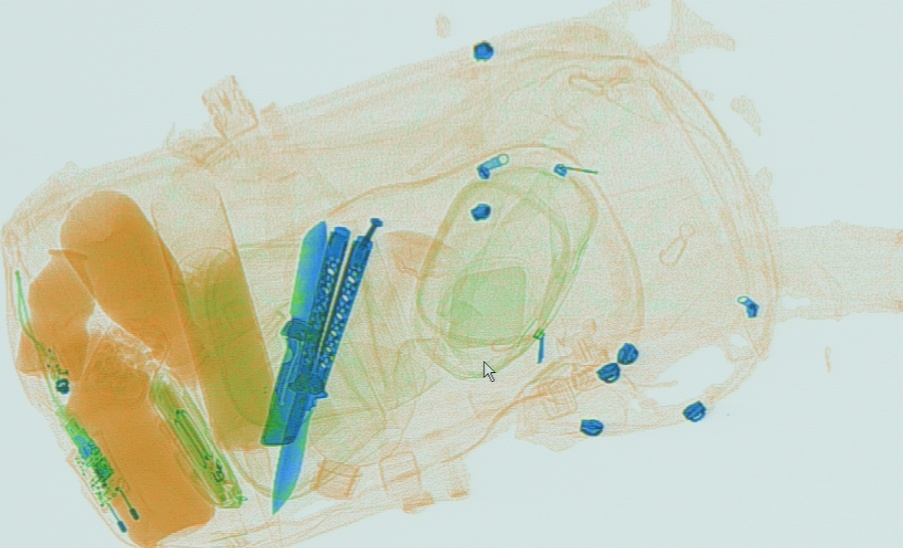knife: (269, 216, 384, 516), (260, 218, 328, 445)
